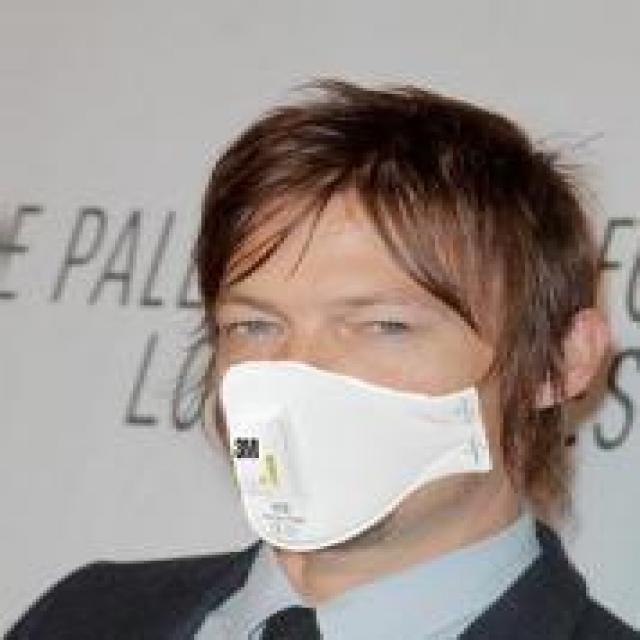mask: (180, 38, 611, 558)
